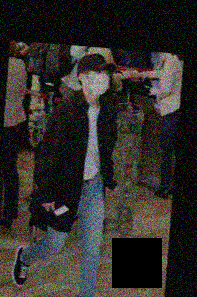with_mask: (87, 69, 110, 97)
